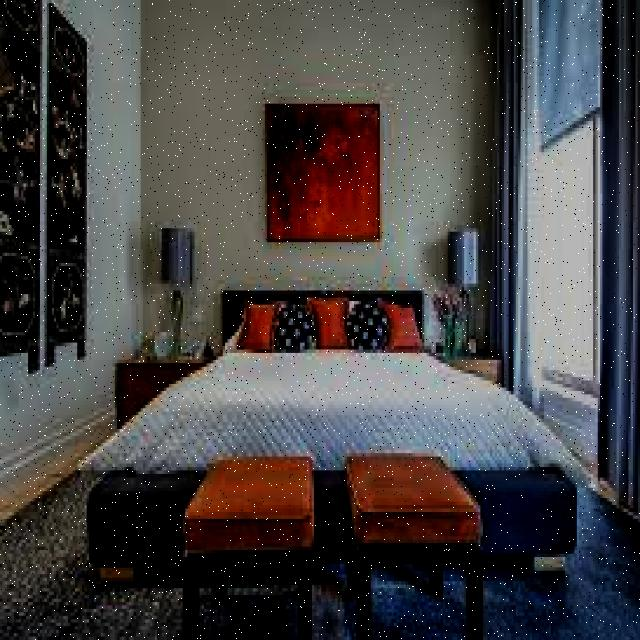bed: (133, 285, 502, 459)
